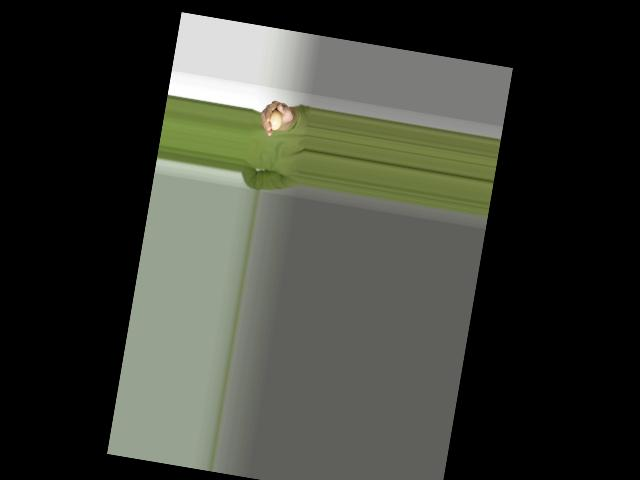egg: (267, 109, 283, 131)
